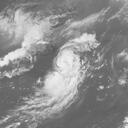cyclone: (42, 35, 95, 96)
